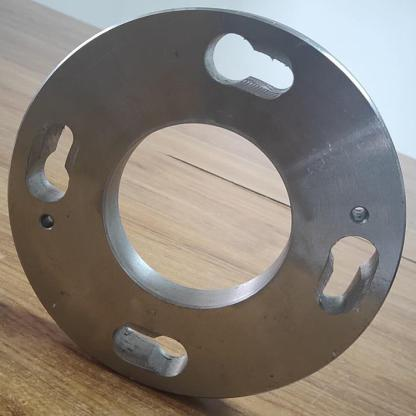FOD: (3, 3, 410, 407)
